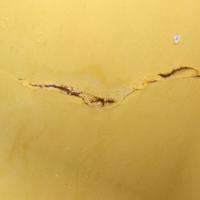crack: (17, 46, 199, 125)
